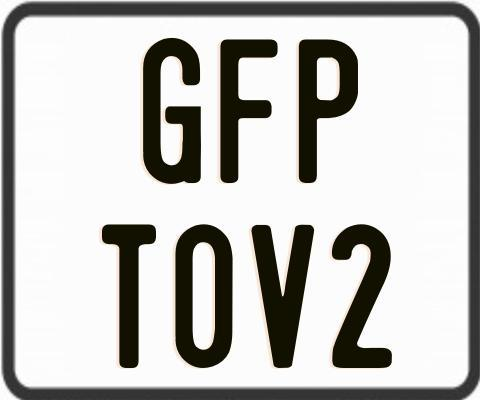0: (172, 222, 236, 372)
2: (331, 221, 394, 370)
F: (219, 37, 281, 186)
G: (141, 35, 204, 184)
P: (299, 37, 361, 186)
T: (102, 222, 158, 366)
V: (250, 224, 315, 373)
